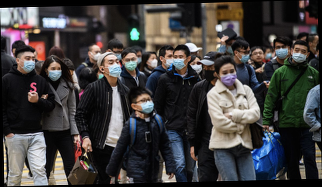with_mask: (104, 58, 123, 79), (219, 67, 238, 87), (20, 54, 37, 73), (138, 96, 155, 114), (291, 46, 308, 64), (172, 53, 188, 71), (47, 65, 62, 82), (201, 65, 216, 82), (275, 43, 289, 60), (123, 56, 138, 71), (189, 60, 204, 75), (90, 49, 103, 63), (112, 49, 125, 62), (239, 49, 251, 63), (164, 52, 174, 68), (147, 56, 159, 69), (264, 50, 272, 60)
without_mask: (252, 49, 265, 62)
